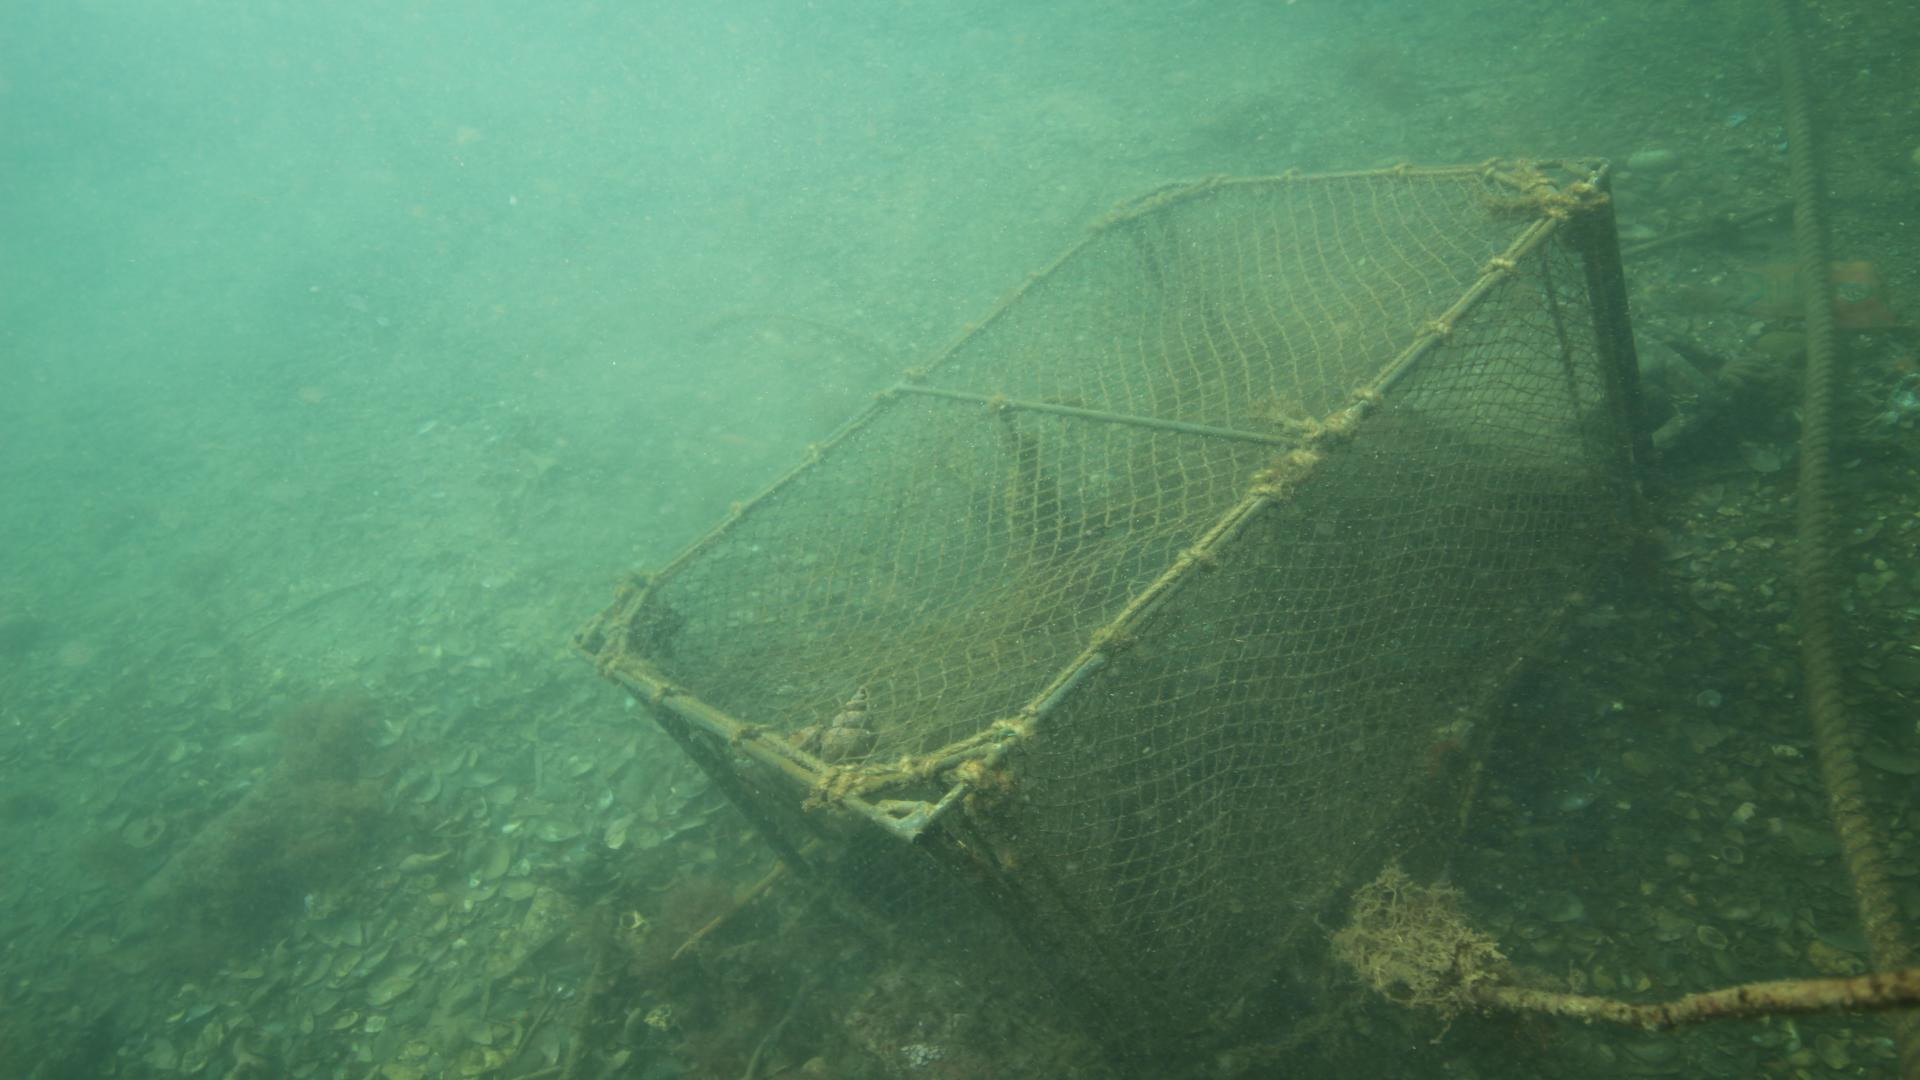rectangular fish trap: (564, 150, 1665, 1080)
rope: (1766, 0, 1920, 982)
